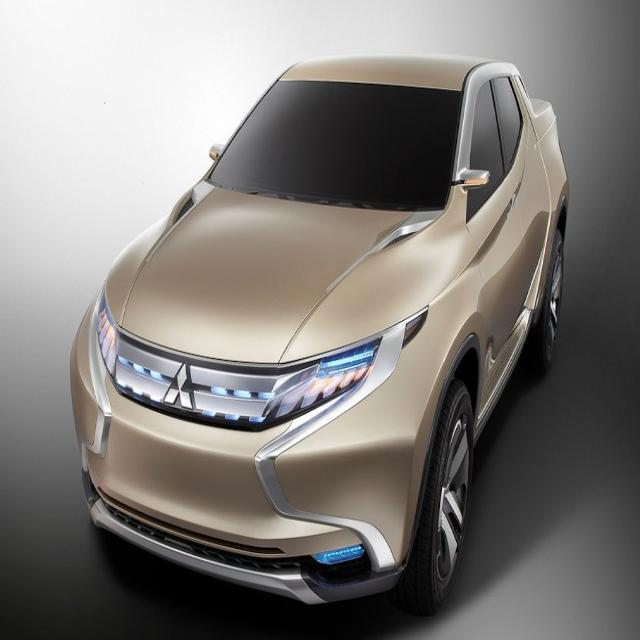front_bumper: (65, 327, 416, 607)
front_glass: (204, 77, 465, 216)
front_left_side_door: (460, 61, 534, 444)
front_left_side_light: (291, 331, 384, 420)
front_left_side_mirror: (459, 167, 494, 195)
front_right_side_light: (97, 276, 119, 384)
front_right_side_mirror: (210, 139, 227, 165)
wheel: (404, 372, 474, 619), (525, 227, 565, 378)
